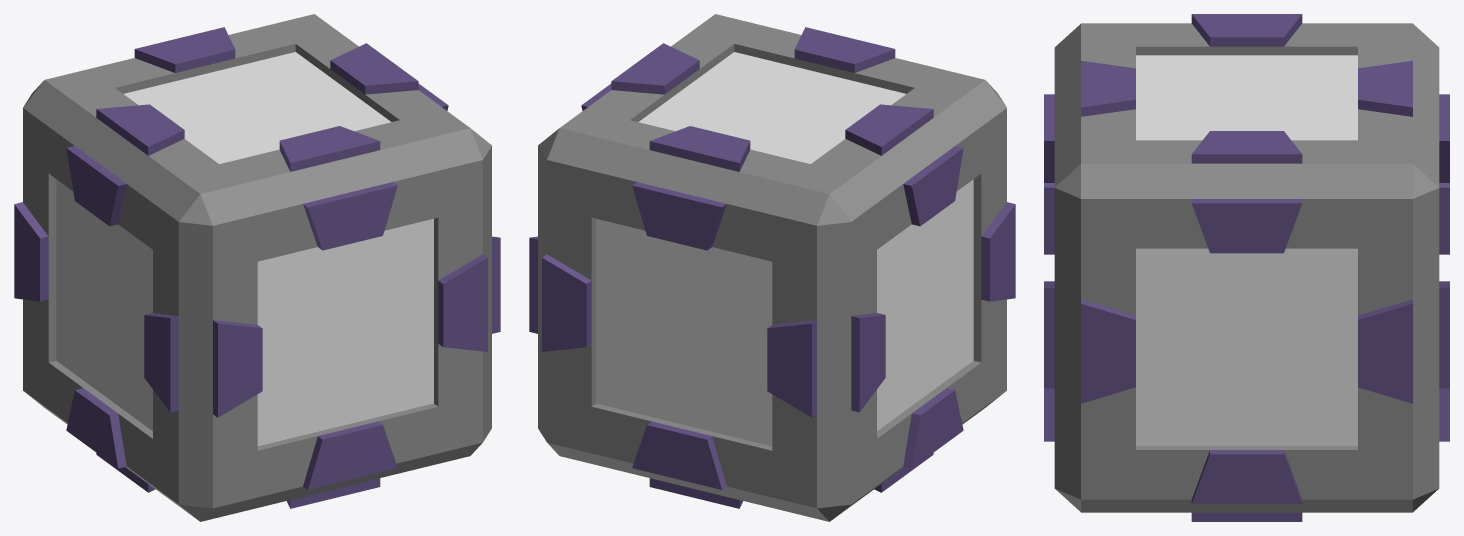
File: Cube_destroyable.fbx
The picture shows the model from 3 angles, left to right: view 1: azimuth 30°, elevation 25°; view 2: azimuth 150°, elevation 25°; view 3: azimuth 270°, elevation 25°; orthographic projection. The views are drawn at different scales.
Parts seen in each view (by area): view 1: Cube, Cube.002, Cube.001, Cube.003, Cube.004; view 2: Cube.001, Cube.002, Cube.005, Cube.004, Cube; view 3: Cube.002, Cube.003, Cube.005, Cube.001, Cube.
Part boxes in pixels (x1,y1,x2,y2): Cube: [131, 228, 491, 521]; Cube.002: [105, 14, 491, 277]; Cube.001: [14, 65, 285, 342]; Cube.003: [342, 227, 500, 406]; Cube.004: [23, 314, 155, 492]; Cube.001: [688, 65, 1006, 472]; Cube.002: [538, 14, 924, 323]; Cube.005: [529, 225, 765, 459]; Cube.004: [562, 272, 963, 521]; Cube: [538, 191, 1015, 463]; Cube.002: [1044, 54, 1449, 282]; Cube.003: [1044, 279, 1436, 488]; Cube.005: [1077, 279, 1449, 450]; Cube.001: [1054, 14, 1449, 254]; Cube: [1044, 183, 1439, 521].
Bounding box in the file's own units: 158 × 158 × 158.
